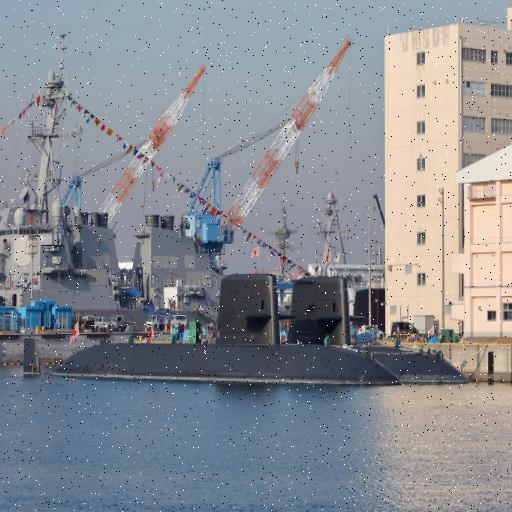submarine: (23, 268, 397, 378), (273, 275, 465, 384)
